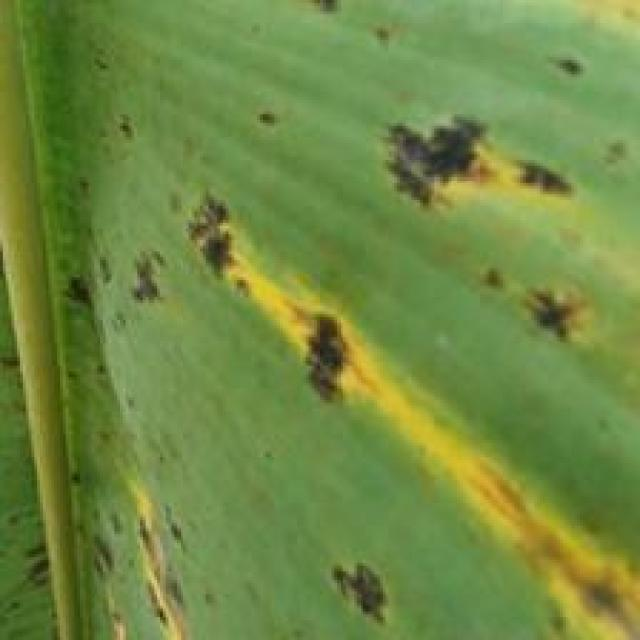Downey_mildrew: (183, 170, 640, 640), (370, 99, 640, 349), (0, 343, 227, 640), (47, 28, 191, 235), (44, 237, 190, 337), (520, 33, 616, 99), (299, 0, 409, 53), (538, 2, 640, 34), (250, 95, 296, 144)
